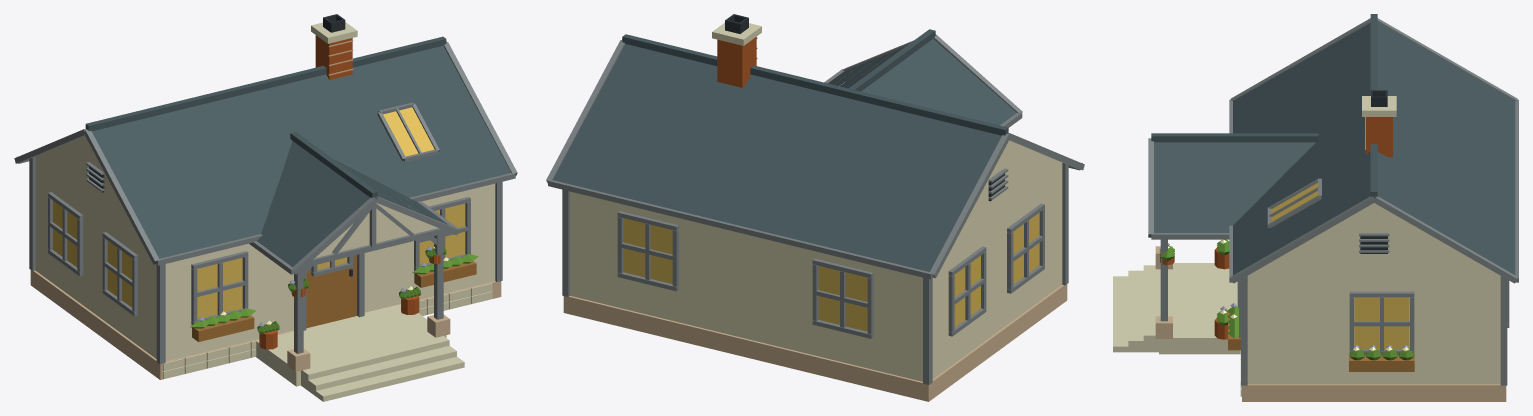
Rendered from House_A_Lv2_LOD1.fbx.
3 views of the same model, side by side, from view 1: azimuth 30°, elevation 25°; view 2: azimuth 150°, elevation 25°; view 3: azimuth 270°, elevation 25° (orthographic). The views are drawn at different scales.
Parts seen in each view (by area): view 1: House_A_Lv2_Medium; view 2: House_A_Lv2_Medium; view 3: House_A_Lv2_Medium.
Boxes of the visible parts, x1,y1,x2,y2 form: House_A_Lv2_Medium: (14,14,517,401); House_A_Lv2_Medium: (546,14,1084,401); House_A_Lv2_Medium: (1113,14,1518,401).
Bounding box in the file's own units: 14.05 × 9.34 × 13.29.
